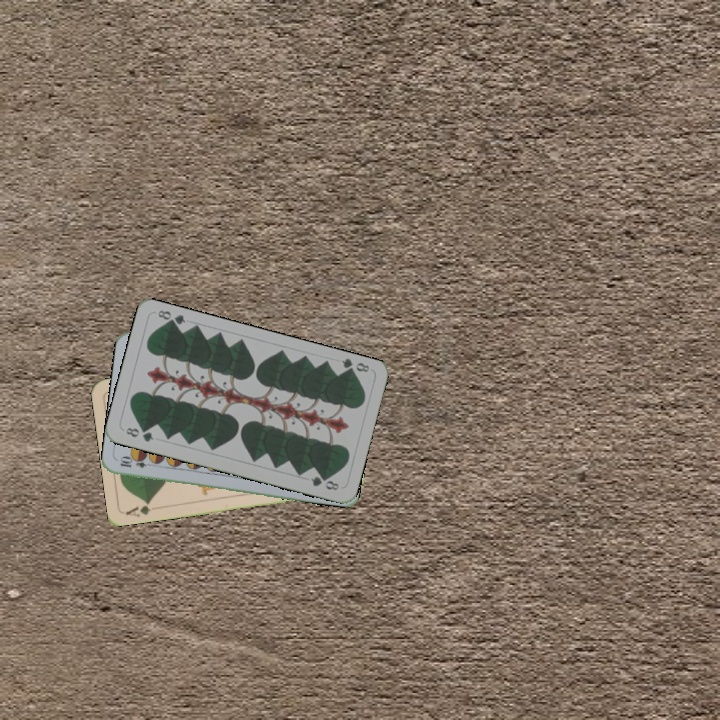E10: (116, 455, 157, 471)
G8: (337, 355, 372, 378), (122, 423, 156, 445)
GA: (122, 498, 154, 519)
